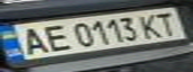0: (69, 19, 93, 48)
1: (90, 17, 109, 45), (106, 16, 124, 44)
3: (118, 13, 142, 42)
A: (12, 25, 54, 56)
E: (36, 21, 72, 53)
K: (136, 11, 166, 39)
T: (151, 10, 184, 36)
